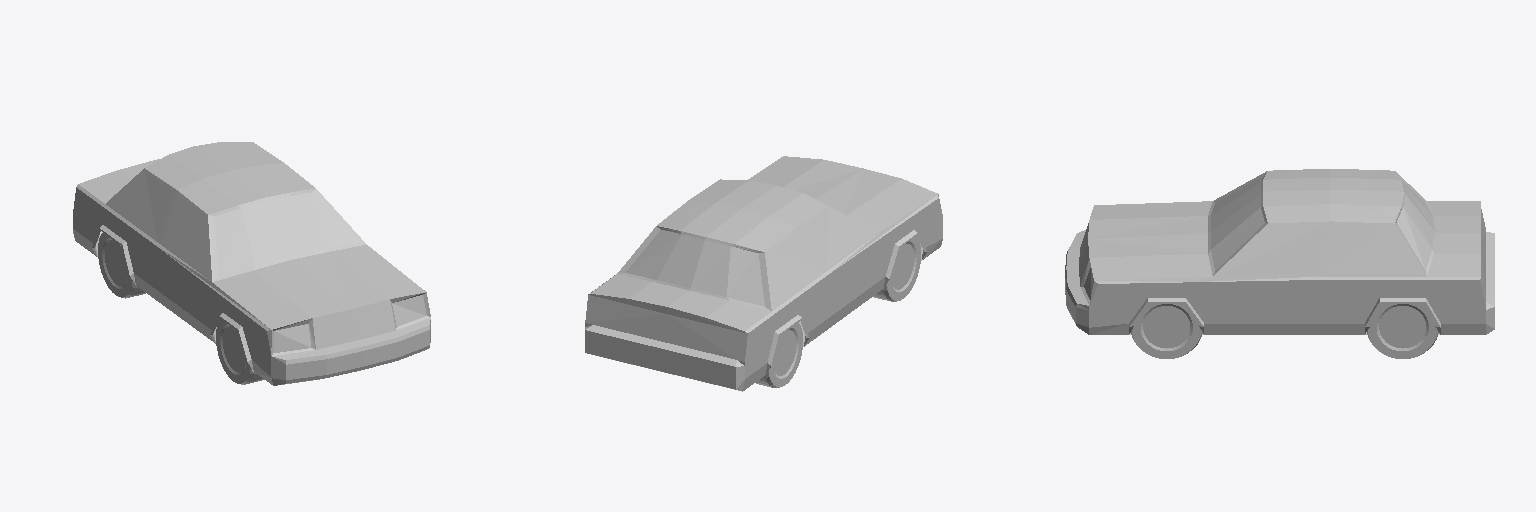
The model's file is Car.obj.
The picture shows the model from 3 angles: view 1: azimuth 30°, elevation 25°; view 2: azimuth 150°, elevation 25°; view 3: azimuth 270°, elevation 25°; orthographic projection.
Parts seen in each view (by area): view 1: Car_Cube-0, Car_Cube-2, Car_Cube-3, Car_Cube-6, Car_Cube-4, Car_Cube-7, Car_Cube-1; view 2: Car_Cube-0, Car_Cube-2, Car_Cube-3, Car_Cube-6, Car_Cube-7, Car_Cube-1; view 3: Car_Cube-0, Car_Cube-2, Car_Cube-3, Car_Cube-7, Car_Cube-6, Car_Cube-1.
Boxes of the visible parts, x1,y1,x2,y2 form: Car_Cube-0: [73, 142, 430, 355]; Car_Cube-2: [109, 172, 357, 276]; Car_Cube-3: [73, 225, 430, 385]; Car_Cube-6: [98, 233, 263, 384]; Car_Cube-4: [274, 295, 426, 352]; Car_Cube-7: [105, 240, 245, 372]; Car_Cube-1: [110, 191, 361, 279]; Car_Cube-0: [585, 156, 942, 378]; Car_Cube-2: [626, 209, 873, 306]; Car_Cube-3: [585, 217, 942, 391]; Car_Cube-6: [755, 236, 920, 387]; Car_Cube-7: [773, 244, 913, 375]; Car_Cube-1: [622, 228, 872, 308]; Car_Cube-0: [1079, 169, 1485, 323]; Car_Cube-2: [1211, 175, 1434, 273]; Car_Cube-3: [1065, 230, 1494, 334]; Car_Cube-7: [1143, 306, 1425, 348]; Car_Cube-6: [1131, 303, 1438, 358]; Car_Cube-1: [1209, 173, 1434, 273].
Size of the model in its own units: 2.1 by 1.59 by 4.67.